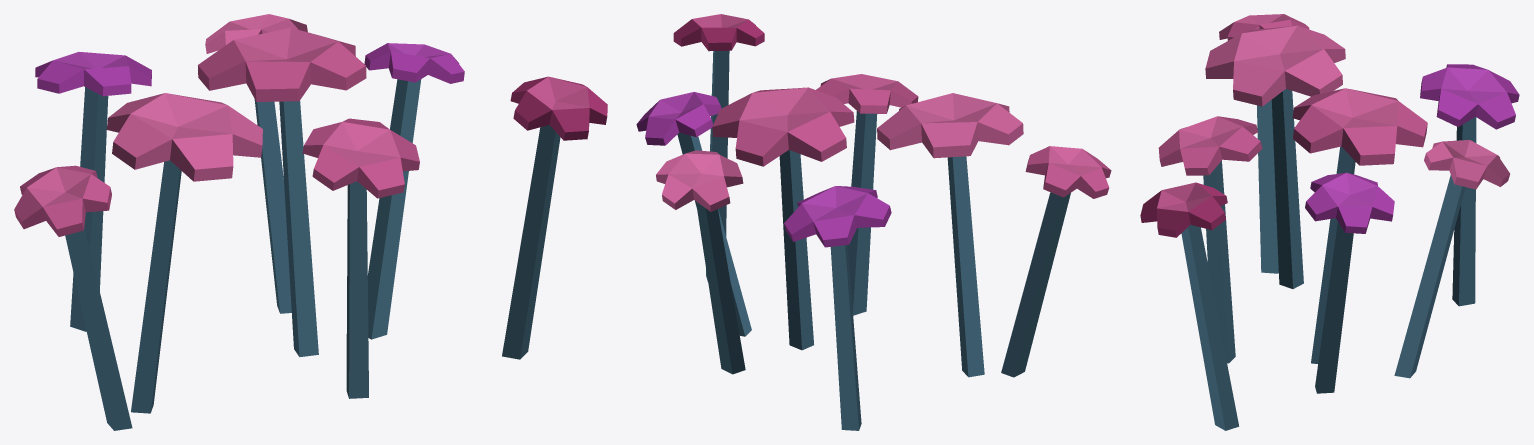
File: SM_Env_Flowers_02.fbx
3 views of the same model, side by side, from view 1: azimuth 30°, elevation 25°; view 2: azimuth 150°, elevation 25°; view 3: azimuth 270°, elevation 25° (orthographic). The views are drawn at different scales.
Visible parts, largest first — view 1: SM_Env_Flowers_02; view 2: SM_Env_Flowers_02; view 3: SM_Env_Flowers_02.
Boxes of the visible parts, box(x1,y1,x2,y2) form: SM_Env_Flowers_02: box(14, 14, 607, 430); SM_Env_Flowers_02: box(636, 14, 1111, 430); SM_Env_Flowers_02: box(1140, 14, 1519, 430).
Bounding box in the file's own units: 0.9786 × 0.5127 × 0.6911.
1 material, 1 textured.
